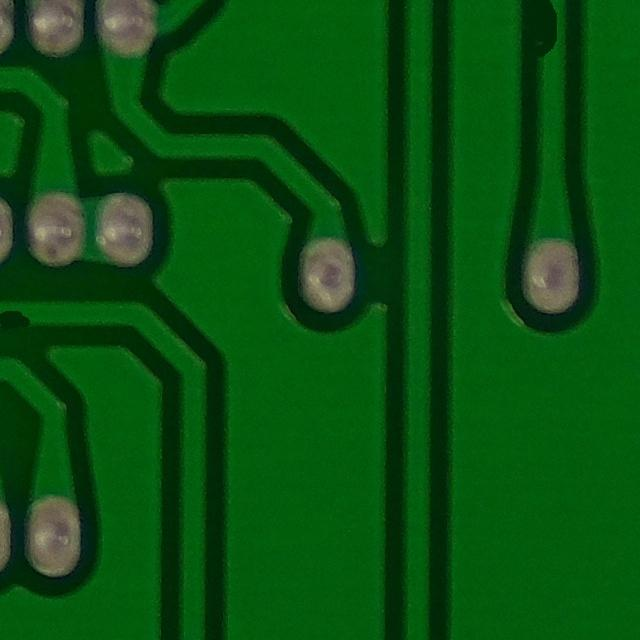mouse_bite: (517, 0, 584, 80), (0, 291, 48, 341)
